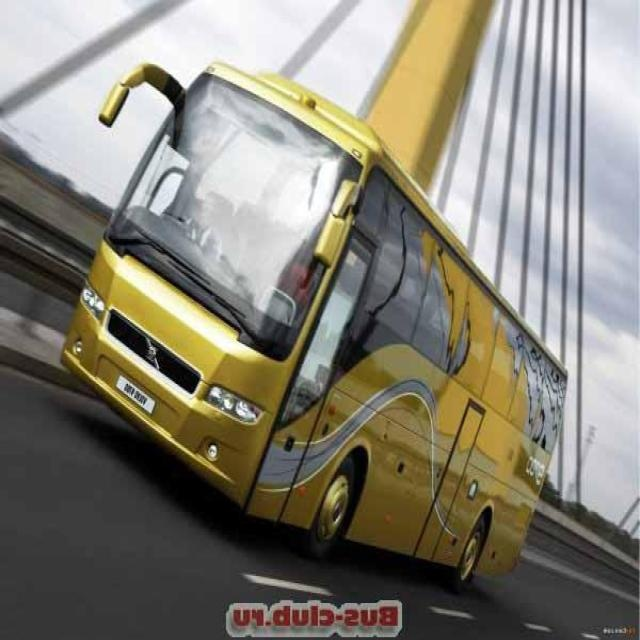Bus: (59, 34, 572, 597)
